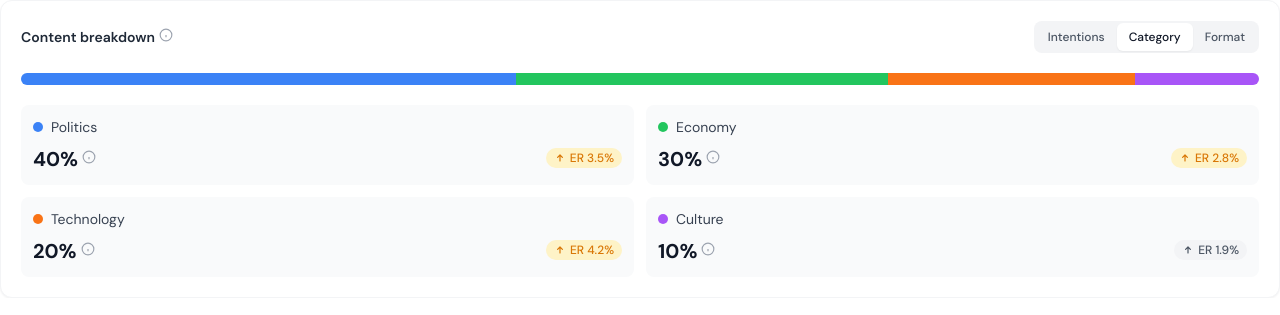
Test: ContentBreakdown › Tab Switching › switches to Format tab and shows format data
Click the button "Format" at {"x": 1225, "y": 37}, box [1193,23,1257,51]
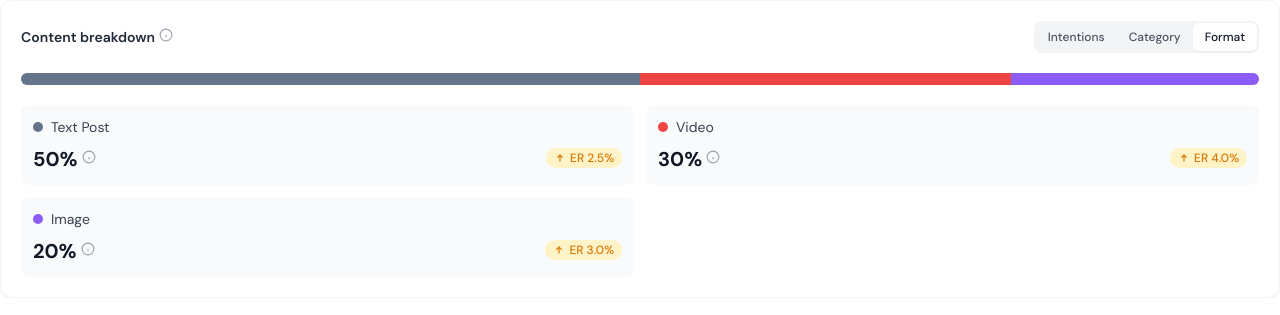
Expected: the text "Text Post" is shown, [51,117,110,137]
Expected: the text "Video" is shown, [676,117,714,137]
Expected: the text "Image" is shown, [51,209,90,229]
